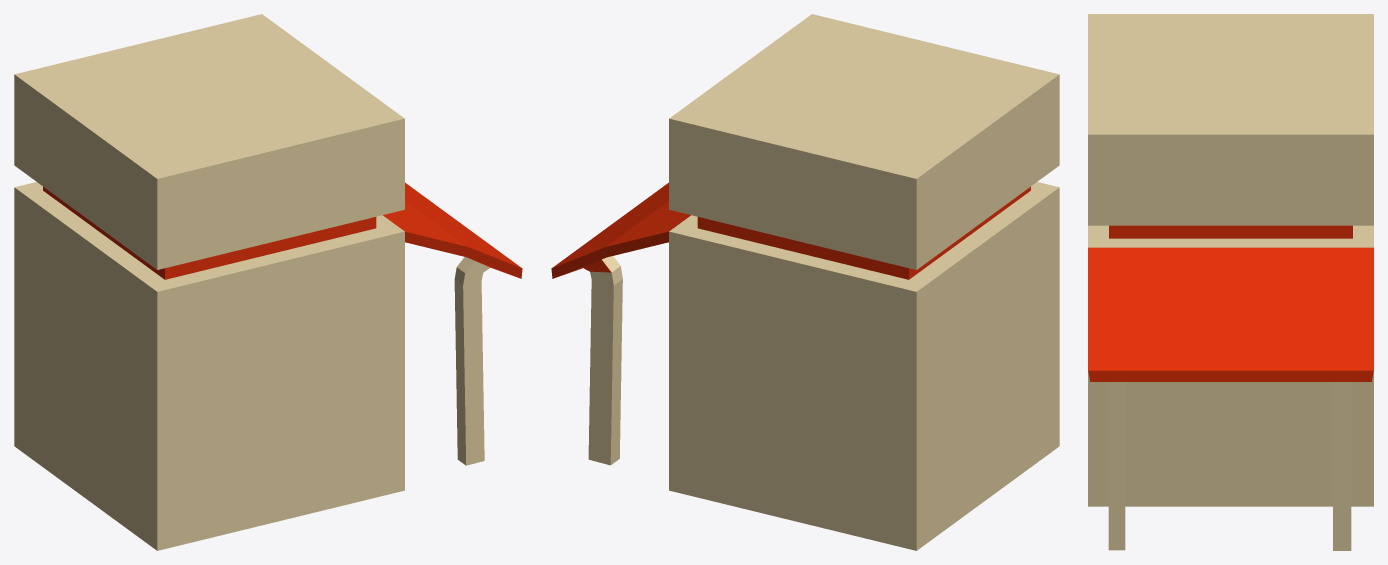
Rendered from house.fbx.
The picture shows the model from 3 angles, left to right: view 1: azimuth 30°, elevation 25°; view 2: azimuth 150°, elevation 25°; view 3: azimuth 270°, elevation 25°; orthographic projection.
Visible parts, largest first — view 1: House; view 2: House; view 3: House.
Part boxes in pixels (x1,y1,x2,y2): House: (14,14,522,550); House: (551,14,1059,550); House: (1088,14,1373,550).
Size of the model in its own units: 2 by 2.95 by 2.87.
